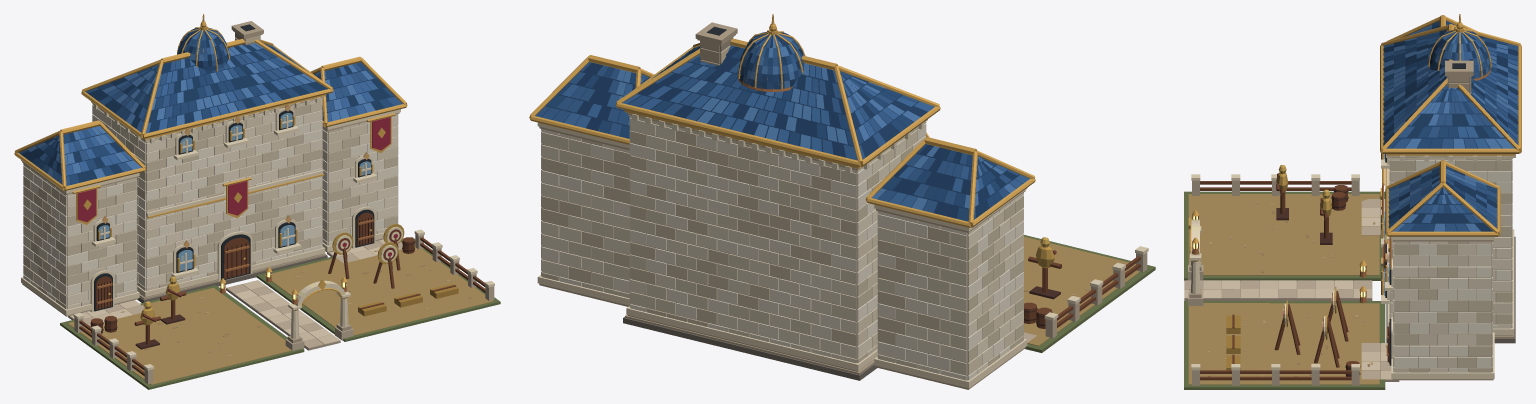
Rendered from barracks-nivel-10.glb.
3 views of the same model, side by side, from view 1: azimuth 30°, elevation 25°; view 2: azimuth 150°, elevation 25°; view 3: azimuth 270°, elevation 25° (orthographic). The views are drawn at different scales.
Parts seen in each view (by area): view 1: Academia Imperial #ad8f5a, Academia Imperial #ded1b9, Academia Imperial #eae1ce, Academia Imperial #cec1a8, Academia Imperial #e8dcc5, Academia Imperial #d5a452, Academia Imperial #e6d7ba, Academia Imperial #1b385b, Academia Imperial #4670a0, Academia Imperial #70432c, Academia Imperial #355f90, Academia Imperial #234771 (+16 smaller); view 2: Academia Imperial #e8dcc5, Academia Imperial #ded1b9, Academia Imperial #eae1ce, Academia Imperial #cec1a8, Academia Imperial #1b385b, Academia Imperial #d5a452, Academia Imperial #2e5481, Academia Imperial #b3a390, Academia Imperial #355f90, Academia Imperial #234771, Academia Imperial #e6d7ba, Academia Imperial #4670a0 (+6 smaller); view 3: Academia Imperial #ad8f5a, Academia Imperial #d5a452, Academia Imperial #1b385b, Academia Imperial #cec1a8, Academia Imperial #eae1ce, Academia Imperial #2e5481, Academia Imperial #e8dcc5, Academia Imperial #68744a, Academia Imperial #4670a0, Academia Imperial #70432c, Academia Imperial #e6d7ba, Academia Imperial #355f90 (+15 smaller).
Part boxes in pixels (left/top/right/bottom): Academia Imperial #ad8f5a: left=68, top=242, right=493, bottom=384; Academia Imperial #ded1b9: left=23, top=97, right=398, bottom=306; Academia Imperial #eae1ce: left=23, top=99, right=398, bottom=301; Academia Imperial #cec1a8: left=23, top=100, right=398, bottom=309; Academia Imperial #e8dcc5: left=23, top=104, right=398, bottom=309; Academia Imperial #d5a452: left=14, top=14, right=407, bottom=310; Academia Imperial #e6d7ba: left=21, top=96, right=494, bottom=370; Academia Imperial #1b385b: left=21, top=28, right=394, bottom=184; Academia Imperial #4670a0: left=27, top=28, right=375, bottom=178; Academia Imperial #70432c: left=79, top=212, right=485, bottom=376; Academia Imperial #355f90: left=39, top=29, right=377, bottom=184; Academia Imperial #234771: left=31, top=28, right=394, bottom=184; Academia Imperial #e8dcc5: left=541, top=116, right=1023, bottom=373; Academia Imperial #ded1b9: left=541, top=114, right=1023, bottom=375; Academia Imperial #eae1ce: left=541, top=123, right=1023, bottom=380; Academia Imperial #cec1a8: left=541, top=116, right=1023, bottom=365; Academia Imperial #1b385b: left=541, top=32, right=1022, bottom=218; Academia Imperial #d5a452: left=529, top=14, right=1035, bottom=227; Academia Imperial #2e5481: left=535, top=31, right=1019, bottom=219; Academia Imperial #b3a390: left=542, top=118, right=968, bottom=380; Academia Imperial #355f90: left=562, top=36, right=1029, bottom=207; Academia Imperial #234771: left=546, top=32, right=1002, bottom=221; Academia Imperial #e6d7ba: left=537, top=112, right=1148, bottom=388; Academia Imperial #4670a0: left=616, top=32, right=1015, bottom=210; Academia Imperial #ad8f5a: left=1188, top=194, right=1379, bottom=384; Academia Imperial #d5a452: left=1188, top=14, right=1521, bottom=347; Academia Imperial #1b385b: left=1383, top=23, right=1518, bottom=231; Academia Imperial #cec1a8: left=1390, top=158, right=1512, bottom=372; Academia Imperial #eae1ce: left=1389, top=158, right=1512, bottom=372; Academia Imperial #2e5481: left=1383, top=23, right=1518, bottom=231; Academia Imperial #e8dcc5: left=1389, top=158, right=1512, bottom=372; Academia Imperial #68744a: left=1184, top=191, right=1385, bottom=389; Academia Imperial #4670a0: left=1383, top=25, right=1518, bottom=231; Academia Imperial #70432c: left=1200, top=181, right=1389, bottom=380; Academia Imperial #e6d7ba: left=1190, top=154, right=1514, bottom=378; Academia Imperial #355f90: left=1383, top=28, right=1518, bottom=222.
Size of the model in its own units: 13.45 by 8.92 by 9.82.
